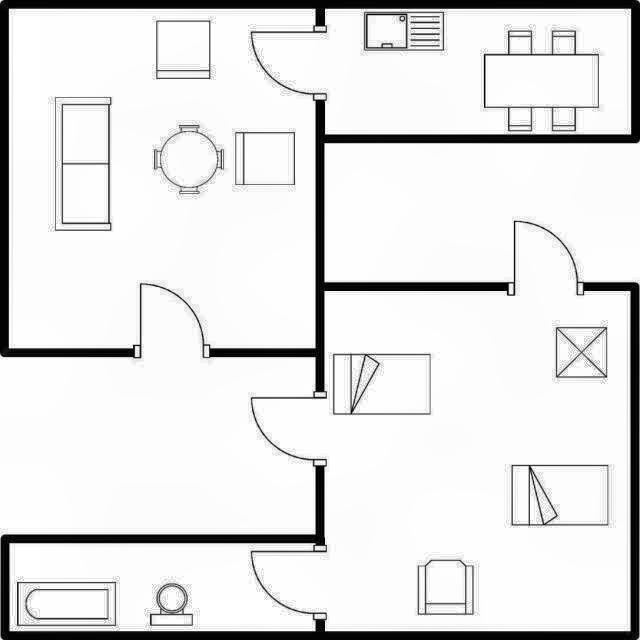room: (9, 8, 315, 348), (325, 291, 631, 631), (325, 9, 631, 135), (9, 543, 316, 631)
